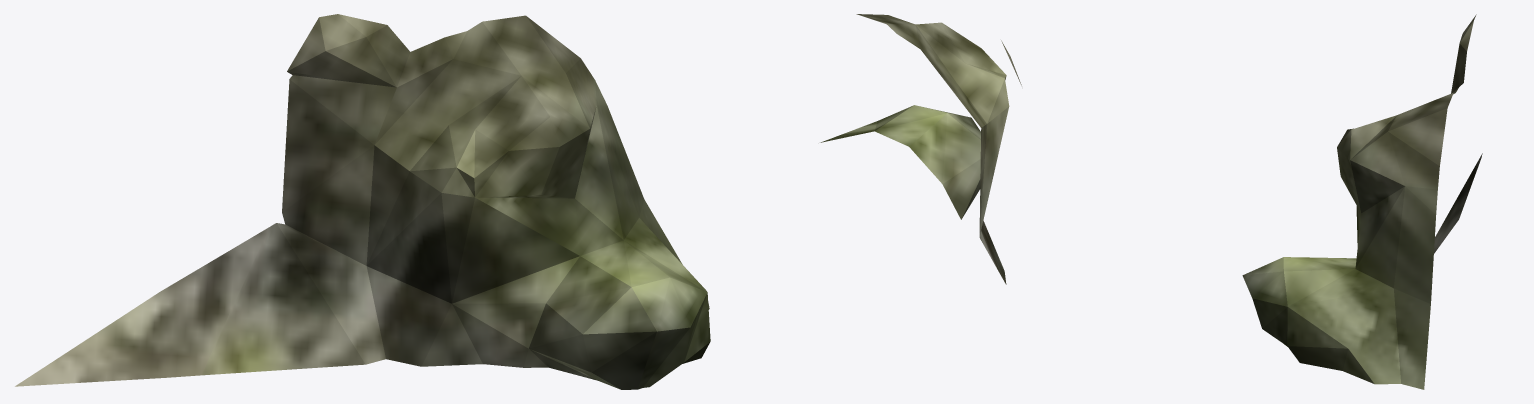
The picture shows the model from 3 angles, left to right: view 1: azimuth 30°, elevation 25°; view 2: azimuth 150°, elevation 25°; view 3: azimuth 270°, elevation 25°; orthographic projection. The views are drawn at different scales.
Bounding box in the file's own units: 2.51 × 1.26 × 1.27.
1 material, 1 textured.
